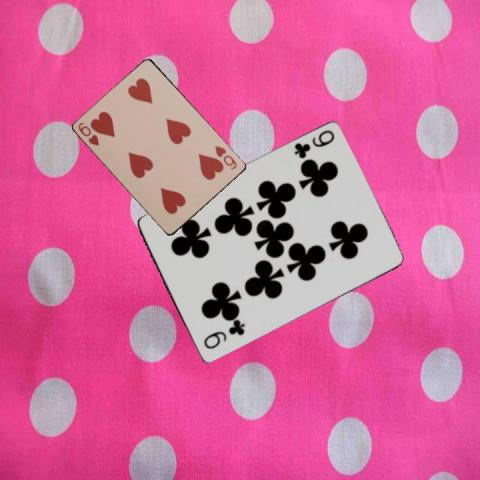6h: (212, 143, 239, 171), (75, 120, 101, 148)
9c: (291, 126, 336, 160), (200, 320, 247, 352)
